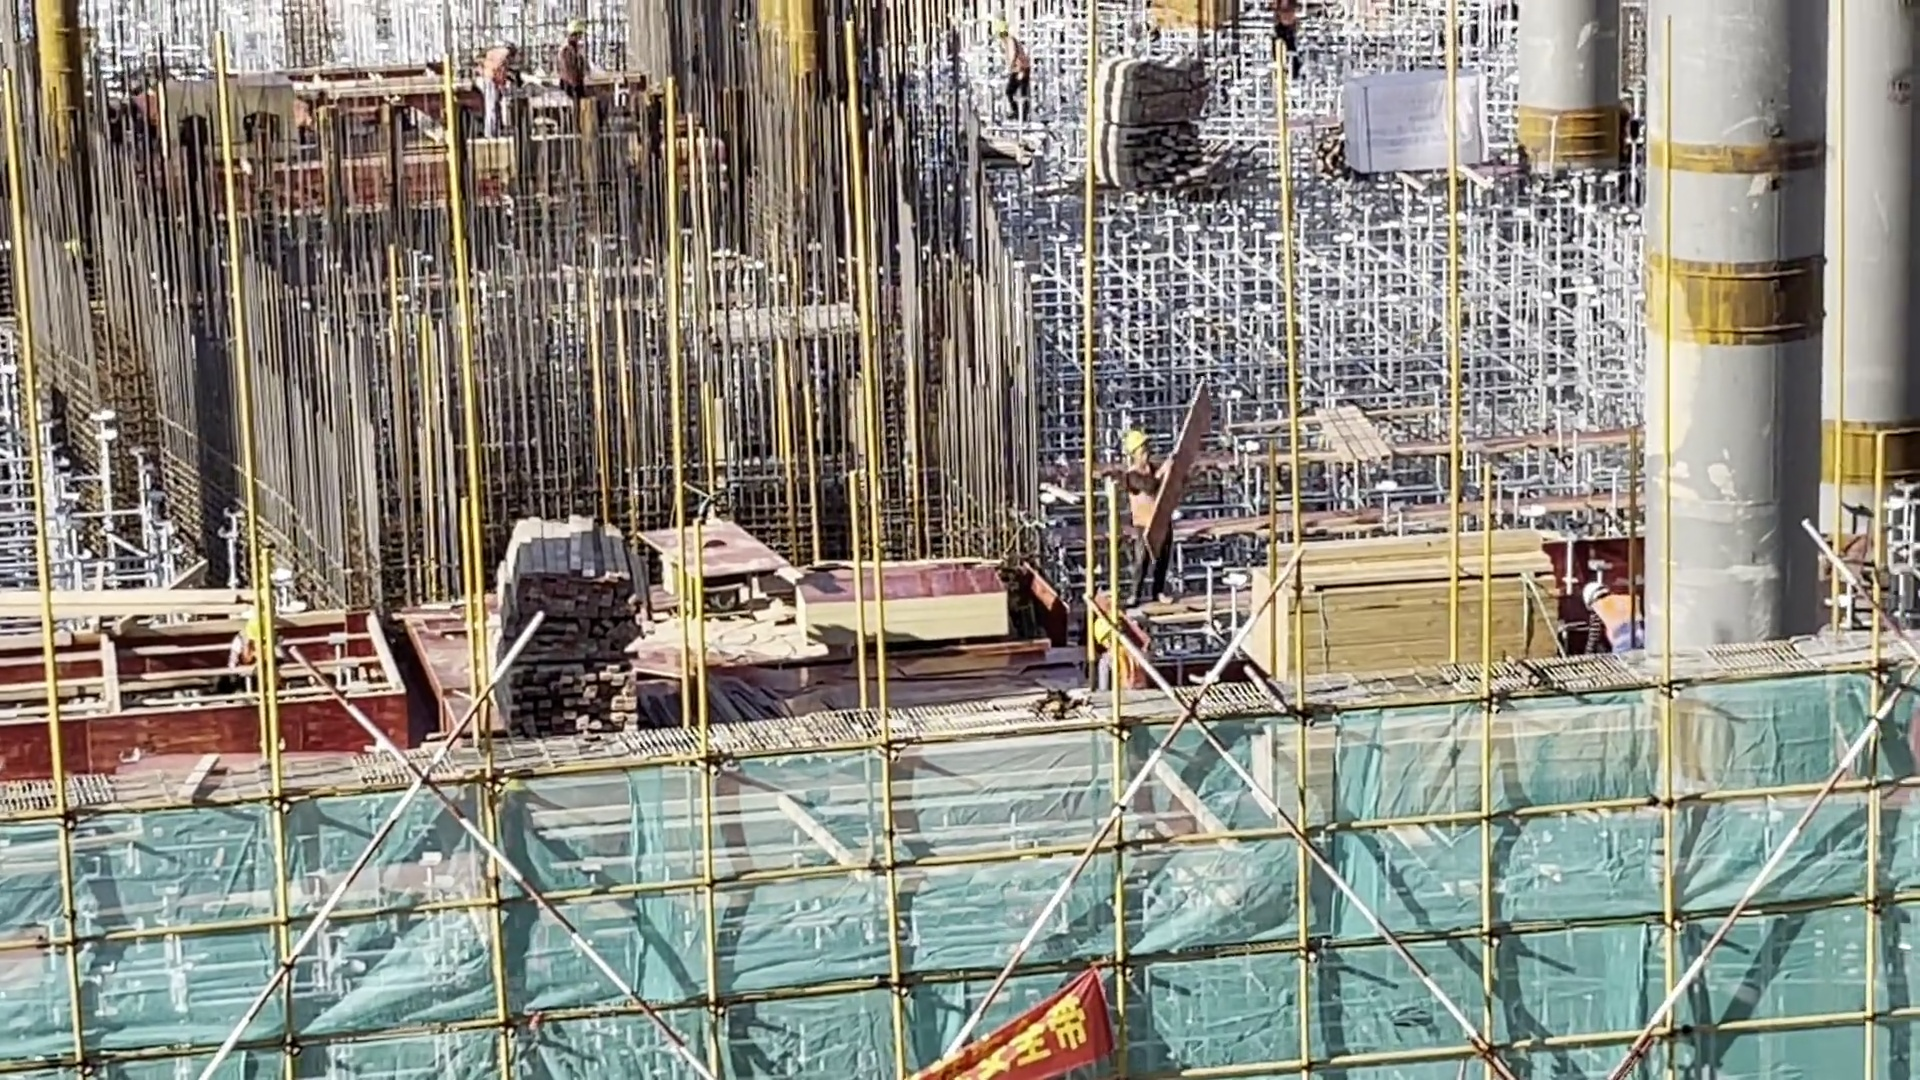helmet: (1581, 569, 1612, 615), (1095, 609, 1122, 646), (1118, 423, 1148, 456)
person: (1108, 419, 1210, 605), (1574, 575, 1659, 660), (1085, 611, 1159, 695)
vest: (1591, 596, 1645, 649), (1124, 467, 1157, 525), (1108, 651, 1147, 689)
